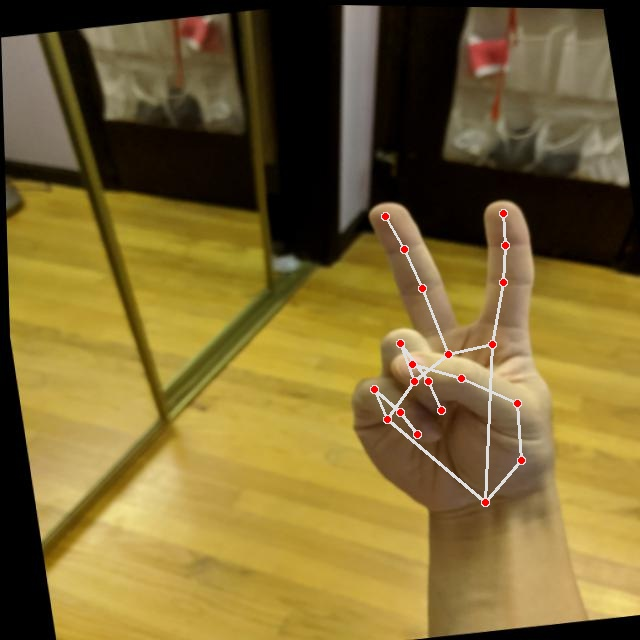V: (311, 177, 575, 533)
